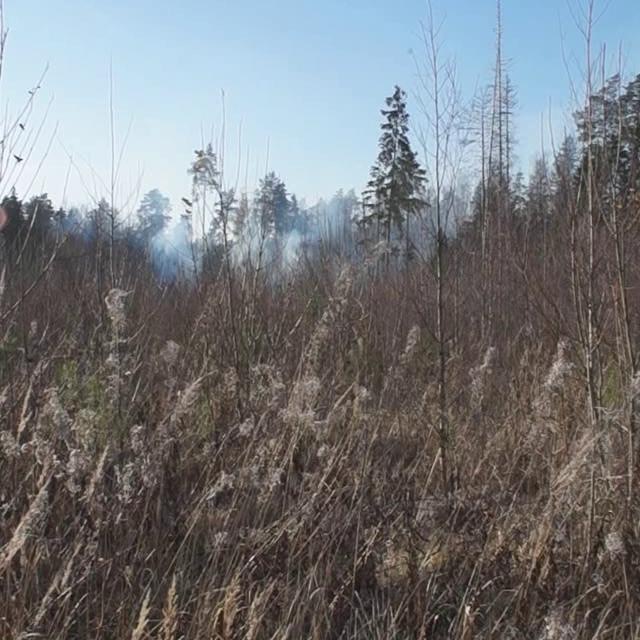Smoke: (107, 164, 480, 298)
